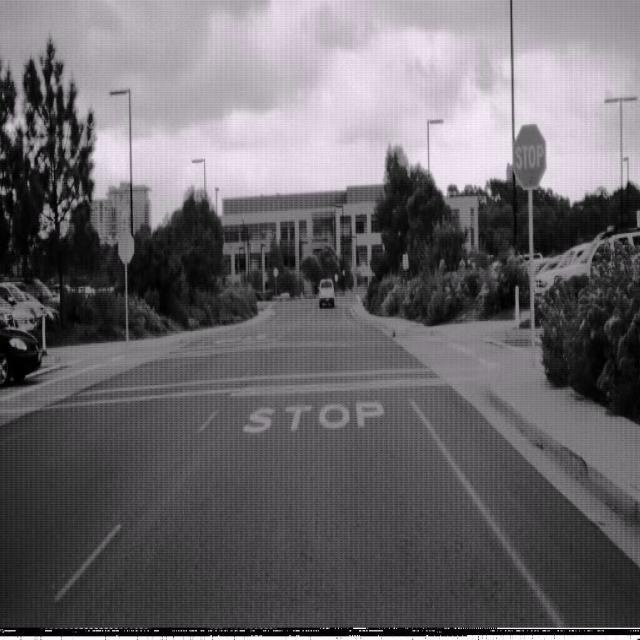stop: (512, 121, 547, 190)
